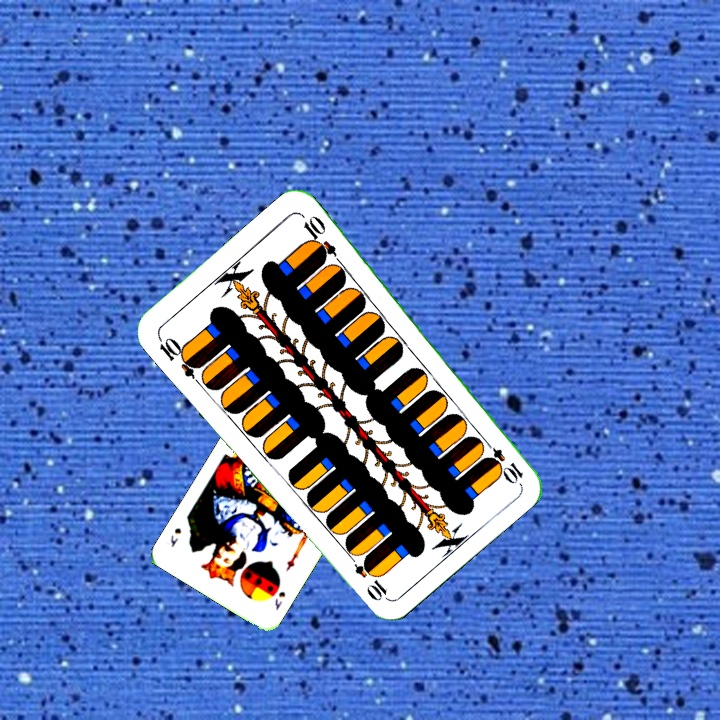E10: (154, 332, 204, 381), (480, 435, 526, 484)
SK: (270, 587, 288, 613)
